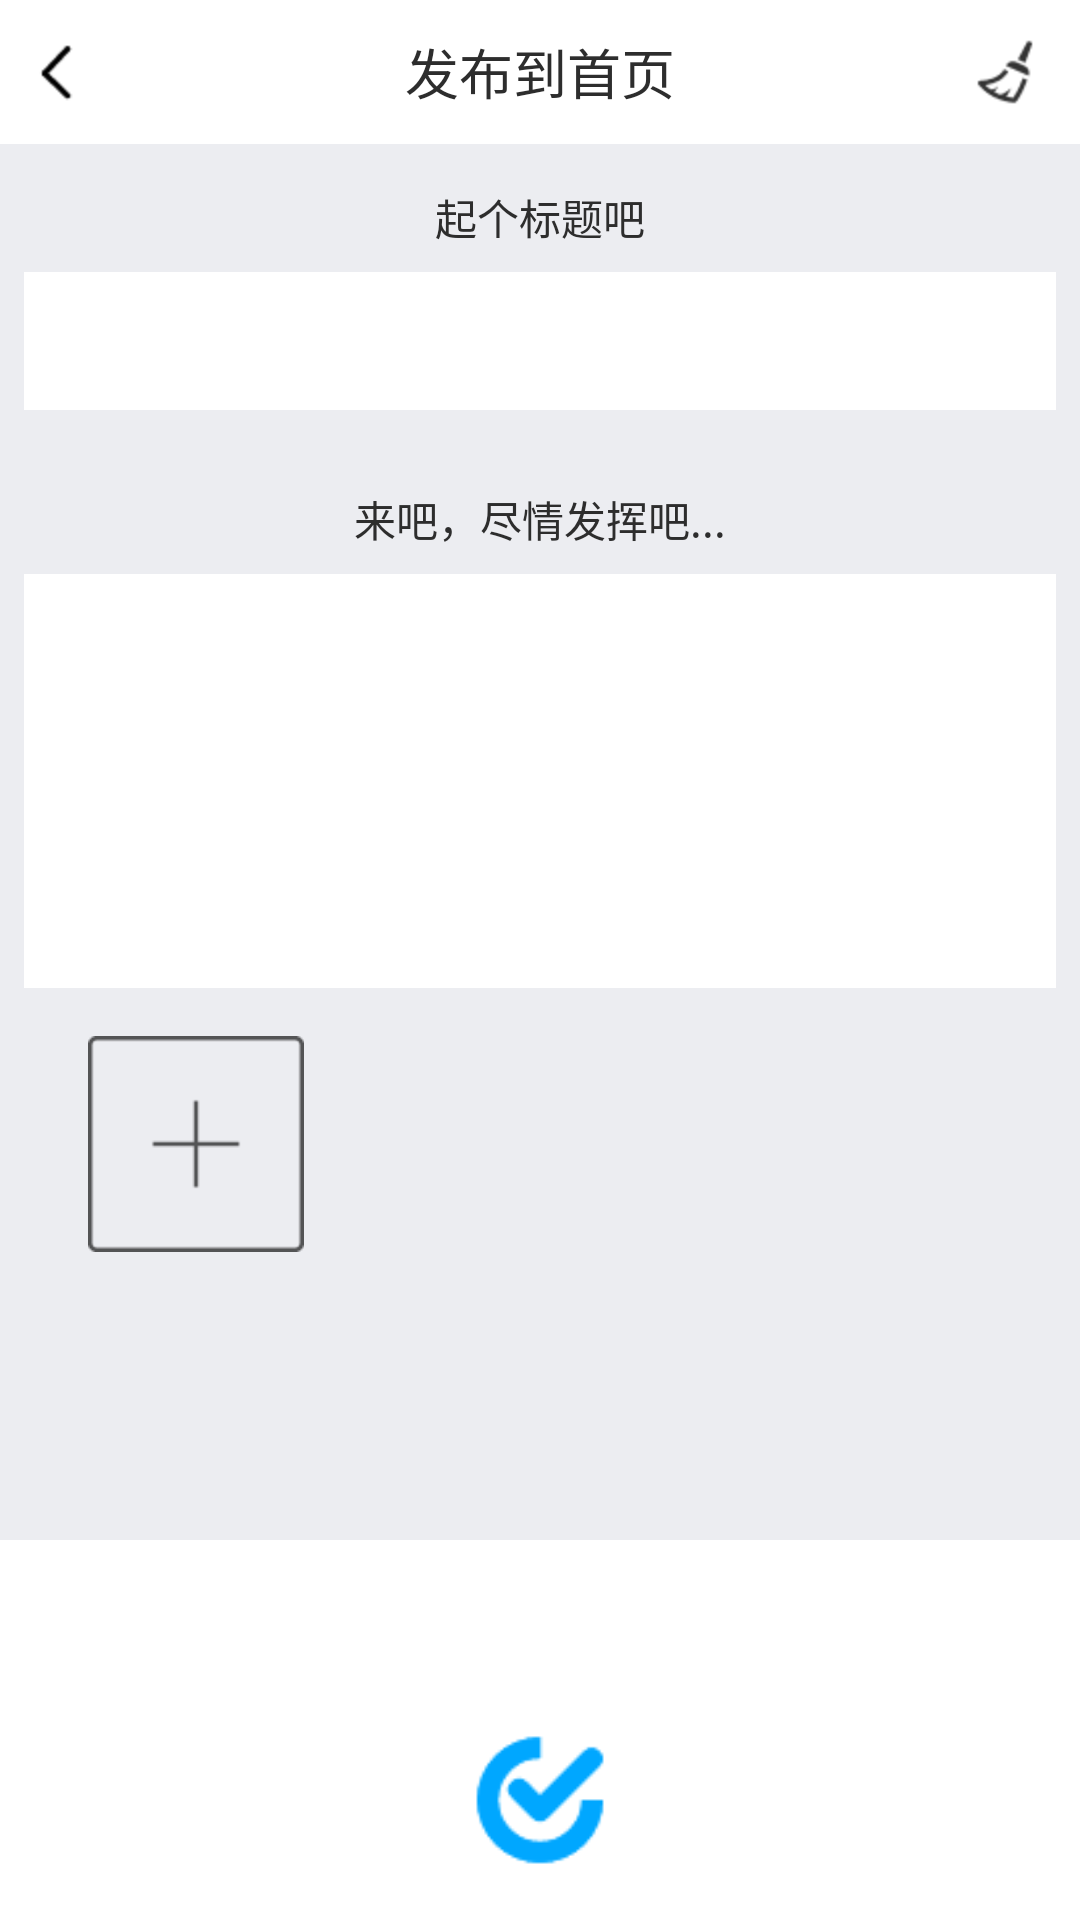

Icons on this 1080*1920 Android screen, each with its box as (x1, y1, x2, y2):
addpic: (88, 1036, 304, 1252)
back: (41, 45, 72, 100)
clear: (977, 40, 1033, 104)
submit: (476, 1736, 604, 1864)
